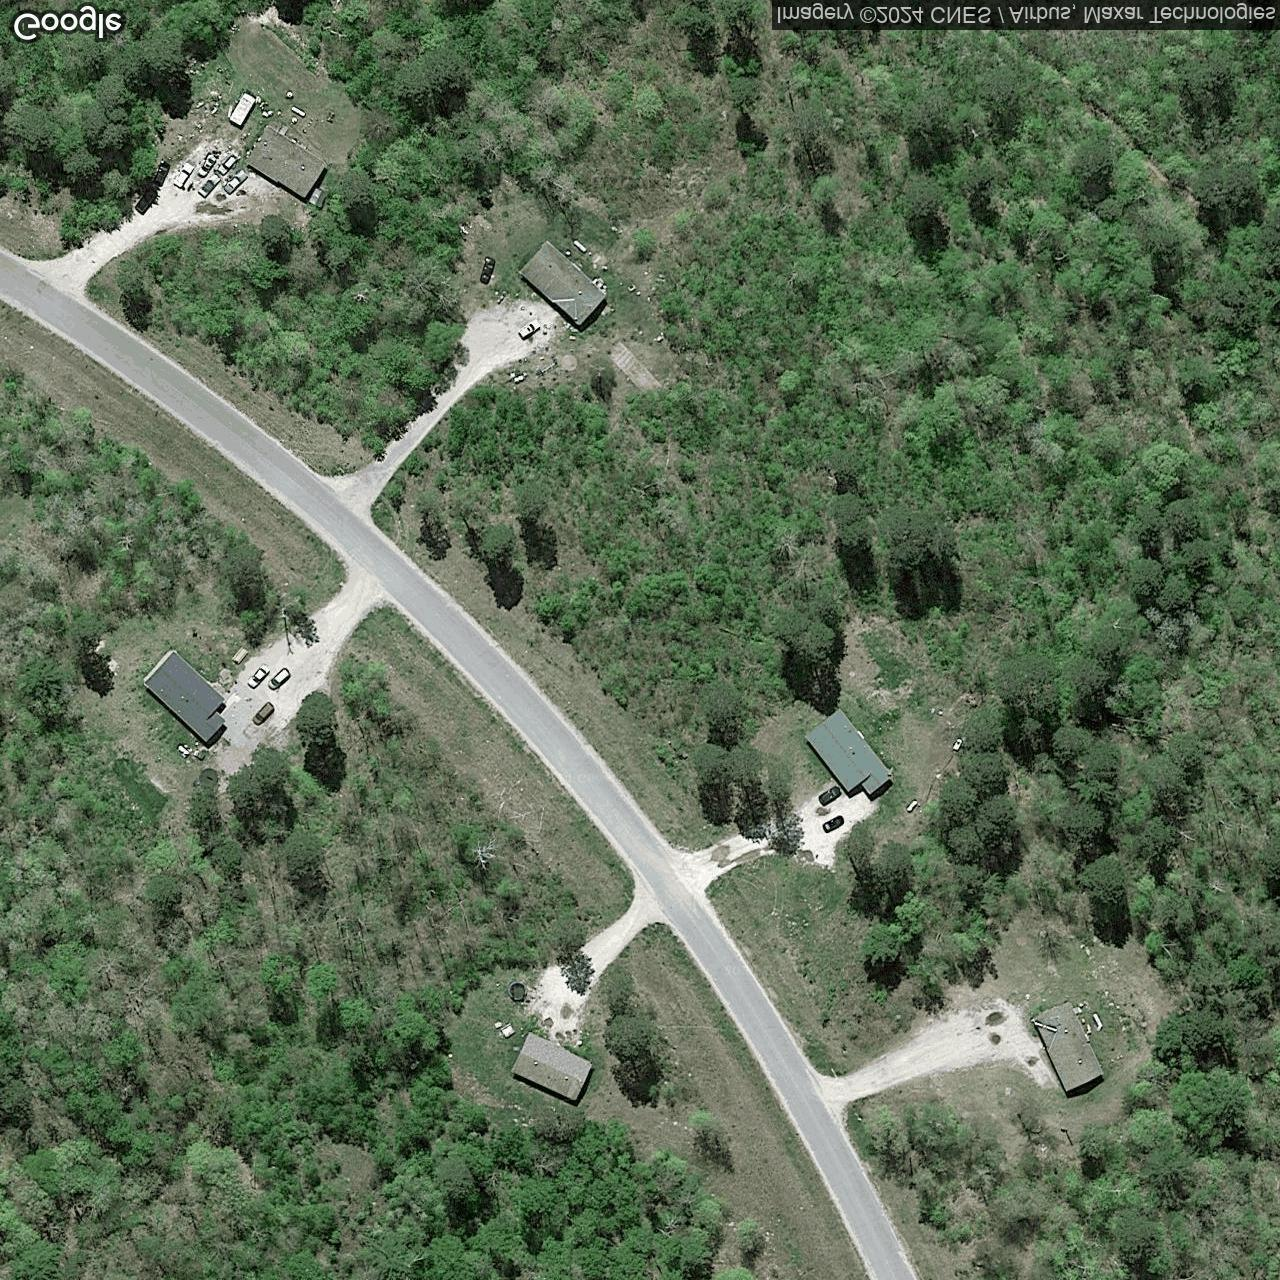House: (515, 238, 611, 328), (803, 706, 894, 797), (143, 648, 226, 744), (1028, 999, 1105, 1095), (244, 124, 329, 200), (509, 1029, 594, 1102)
Propane: (1088, 1009, 1107, 1032), (287, 104, 309, 121), (903, 797, 920, 817), (572, 238, 592, 256), (175, 742, 192, 760)
